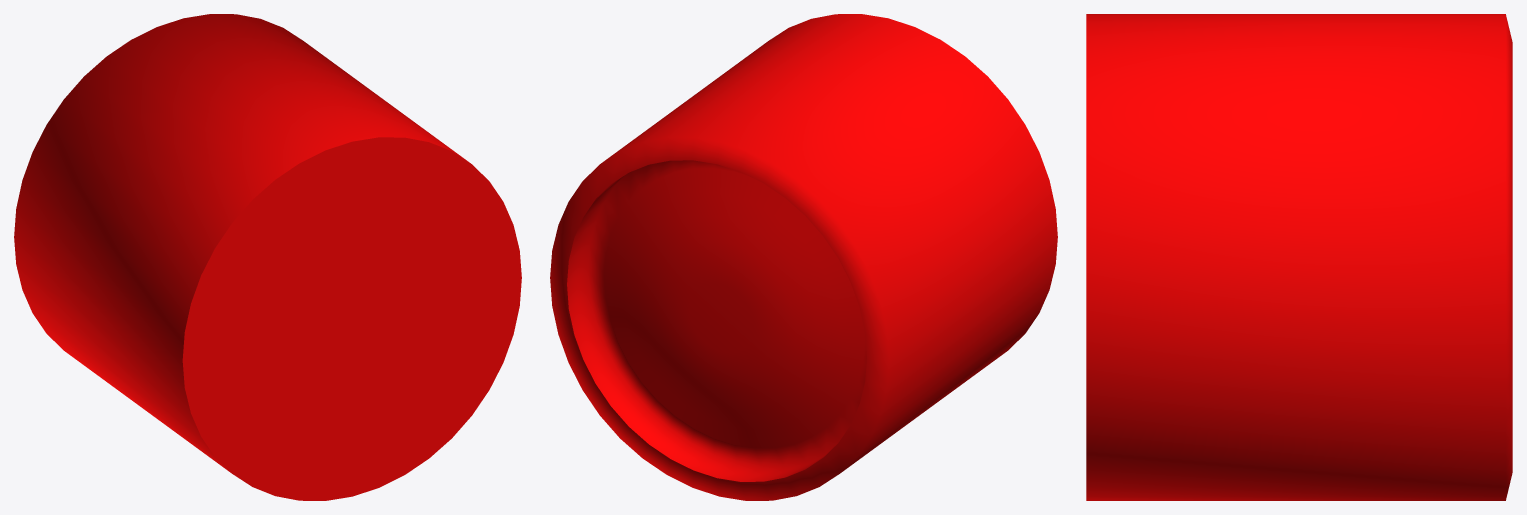
The model's file is red.obj.
3 renders of one model, left to right at view 1: azimuth 30°, elevation 25°; view 2: azimuth 150°, elevation 25°; view 3: azimuth 270°, elevation 25°, orthographic. The views are drawn at different scales.
Visible parts, largest first — view 1: Cylinder015; view 2: Cylinder015; view 3: Cylinder015.
Boxes of the visible parts, <box> form: Cylinder015: <box>14,14,521,500</box>; Cylinder015: <box>550,14,1057,500</box>; Cylinder015: <box>1086,14,1512,500</box>.
Size of the model in its own units: 4.64 by 4.64 by 4.06.
1 material, 1 textured.
